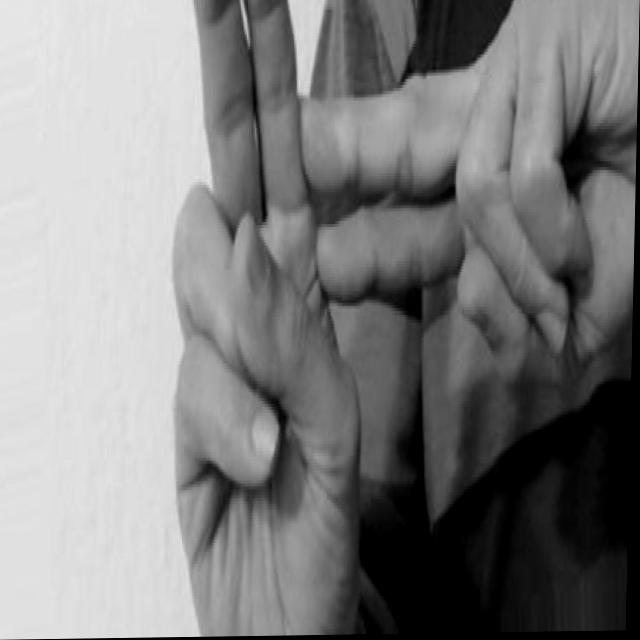K: (162, 0, 640, 637)
